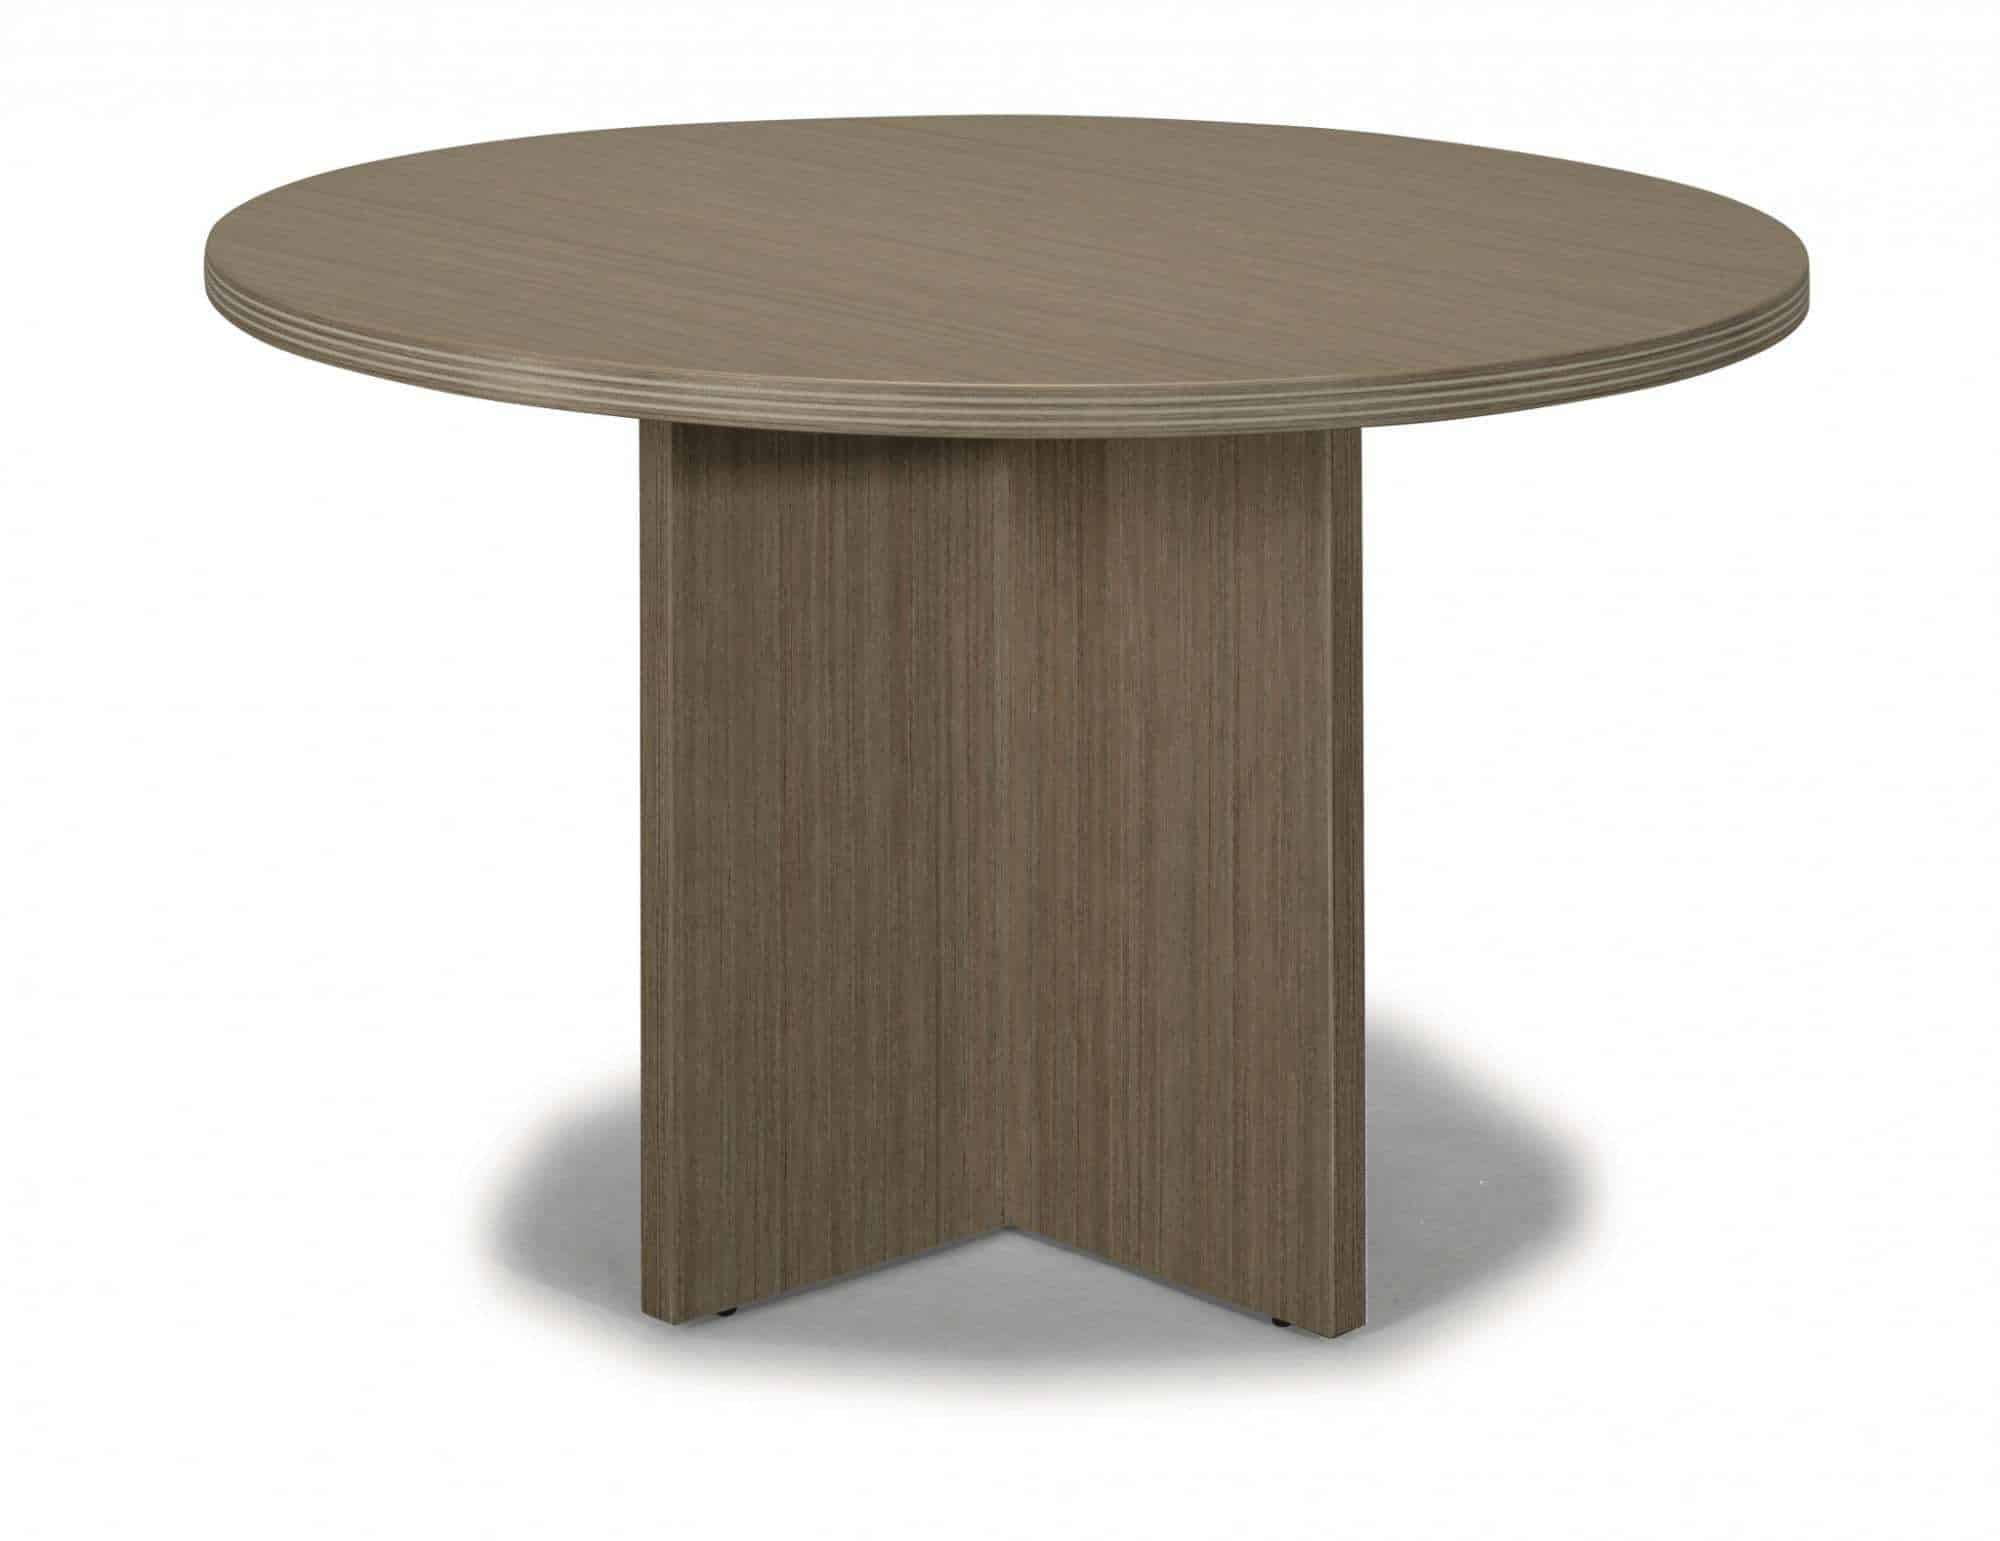conference_table: (201, 118, 1814, 1340)
